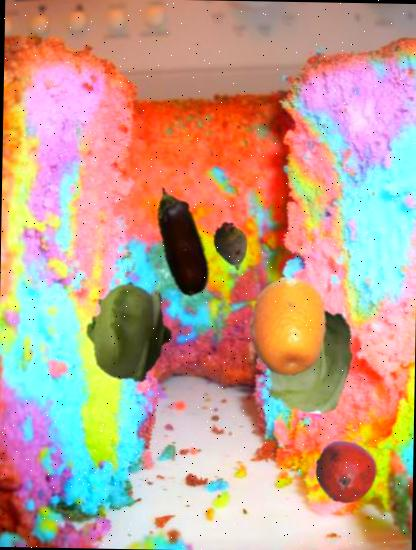Beetroot: (205, 219, 258, 272)
Eggplant: (122, 181, 240, 300)
Kohlrabi: (248, 302, 360, 414), (77, 280, 181, 384)
Kumquats: (238, 276, 340, 378)
Pomegranate: (314, 440, 377, 503)
